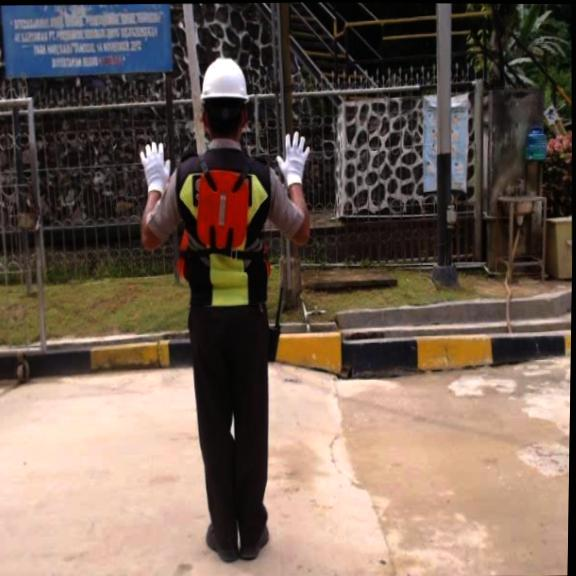safety_vest: (194, 162, 252, 251)
